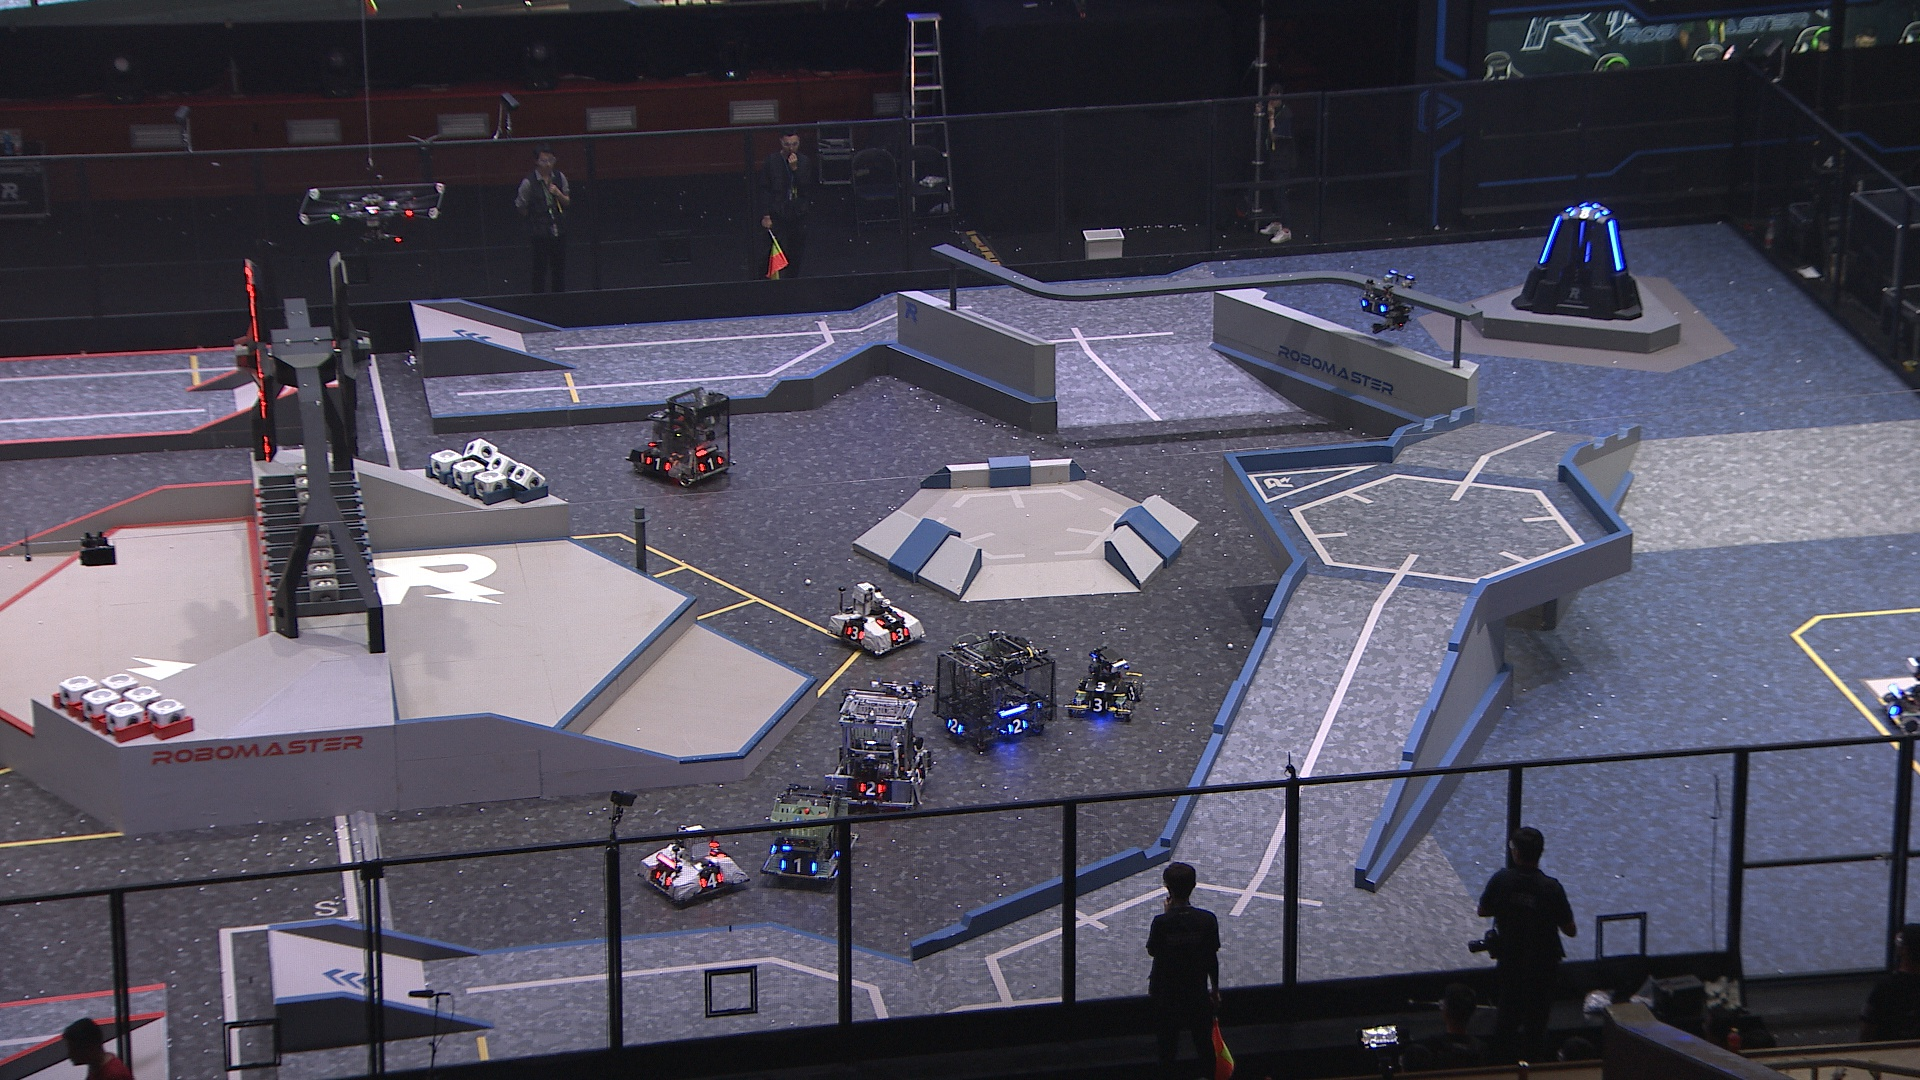armor: (1538, 215, 1561, 264), (1607, 219, 1626, 273), (778, 856, 818, 877), (642, 455, 673, 475), (1571, 204, 1604, 222), (700, 870, 724, 891), (1083, 679, 1120, 692), (698, 455, 724, 473), (858, 781, 889, 796), (651, 868, 674, 889), (1358, 301, 1387, 316), (1087, 694, 1109, 713), (876, 611, 903, 626), (887, 626, 911, 645), (844, 622, 865, 642), (945, 713, 964, 736), (1007, 717, 1031, 735), (1576, 222, 1589, 251), (1883, 698, 1902, 717), (911, 766, 926, 787), (1125, 683, 1138, 700)
base: (1513, 204, 1646, 319)
car: (928, 632, 1055, 752), (829, 688, 935, 812), (626, 385, 733, 488), (761, 785, 861, 885), (636, 823, 750, 907), (827, 582, 924, 661), (1068, 646, 1147, 723), (1878, 650, 1920, 738)
watcher: (1357, 270, 1414, 338)
